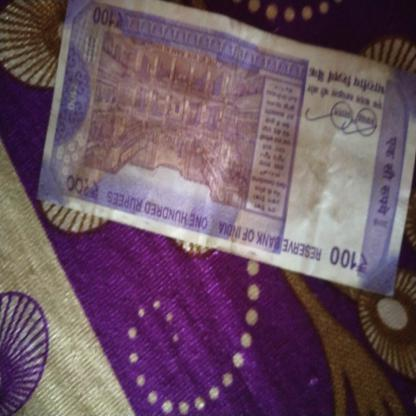New100Back: (38, 0, 415, 283)
